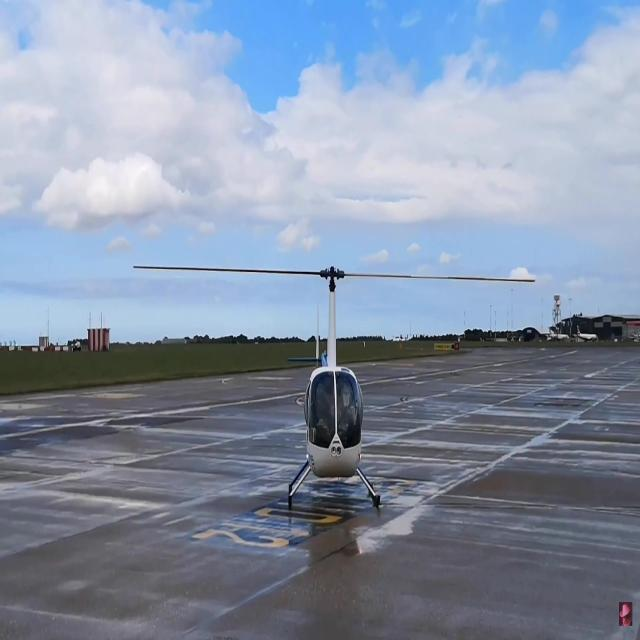CIV_HELO: (287, 264, 381, 509)
